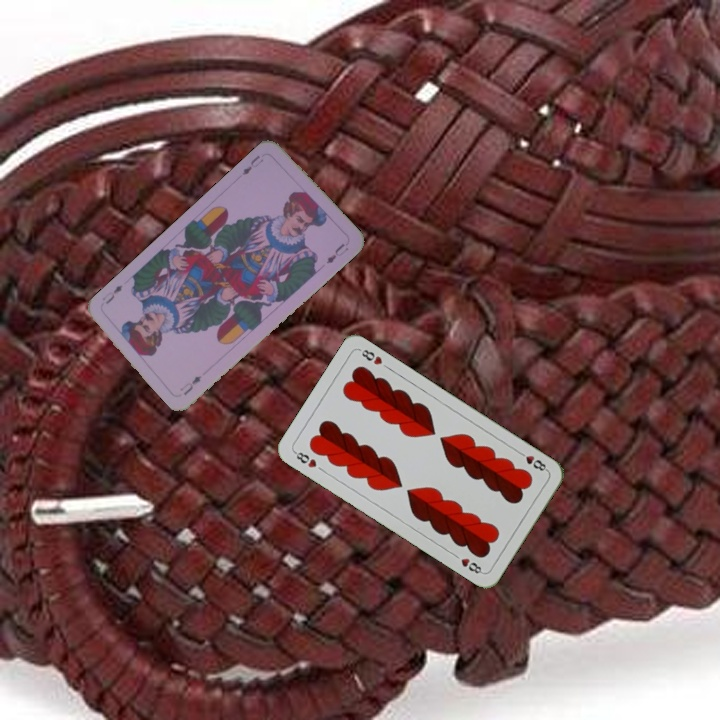EU: (238, 151, 266, 178), (176, 371, 204, 398)
H8: (514, 447, 550, 474), (290, 447, 319, 470)
